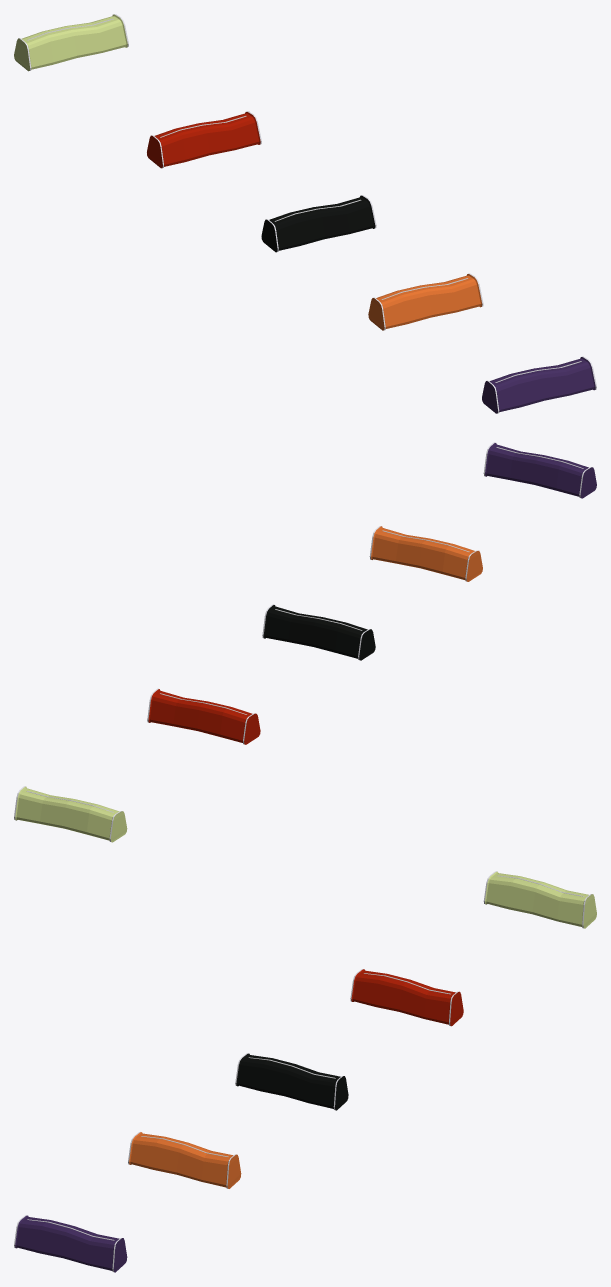
Rendered from PencilCases.fbx.
The picture shows the model from 3 angles, top to bottom: view 1: azimuth 30°, elevation 25°; view 2: azimuth 150°, elevation 25°; view 3: azimuth 330°, elevation 25°; orthographic projection.
Visible parts, largest first — view 1: Pencil_Case_3, Pencil_Case_4, Pencil_Case_5, Pencil_Case_1, Pencil_Case_2; view 2: Pencil_Case_2, Pencil_Case_5, Pencil_Case_3, Pencil_Case_1, Pencil_Case_4; view 3: Pencil_Case_3, Pencil_Case_1, Pencil_Case_2, Pencil_Case_5, Pencil_Case_4.
Part boxes in pixels (bbox=[...]): Pencil_Case_3: bbox=[261, 195, 376, 252]; Pencil_Case_4: bbox=[368, 273, 483, 330]; Pencil_Case_5: bbox=[482, 356, 596, 413]; Pencil_Case_1: bbox=[14, 14, 128, 71]; Pencil_Case_2: bbox=[147, 111, 261, 168]; Pencil_Case_2: bbox=[147, 688, 260, 744]; Pencil_Case_5: bbox=[483, 442, 596, 498]; Pencil_Case_3: bbox=[262, 604, 375, 660]; Pencil_Case_1: bbox=[14, 786, 127, 842]; Pencil_Case_4: bbox=[369, 526, 482, 581]; Pencil_Case_3: bbox=[235, 1053, 348, 1110]; Pencil_Case_1: bbox=[483, 871, 596, 928]; Pencil_Case_2: bbox=[350, 969, 463, 1026]; Pencil_Case_5: bbox=[14, 1215, 127, 1272]; Pencil_Case_4: bbox=[128, 1132, 241, 1188].
Bounding box in the file's own units: 27.84 × 7.56 × 236.
1 material, 1 textured.
